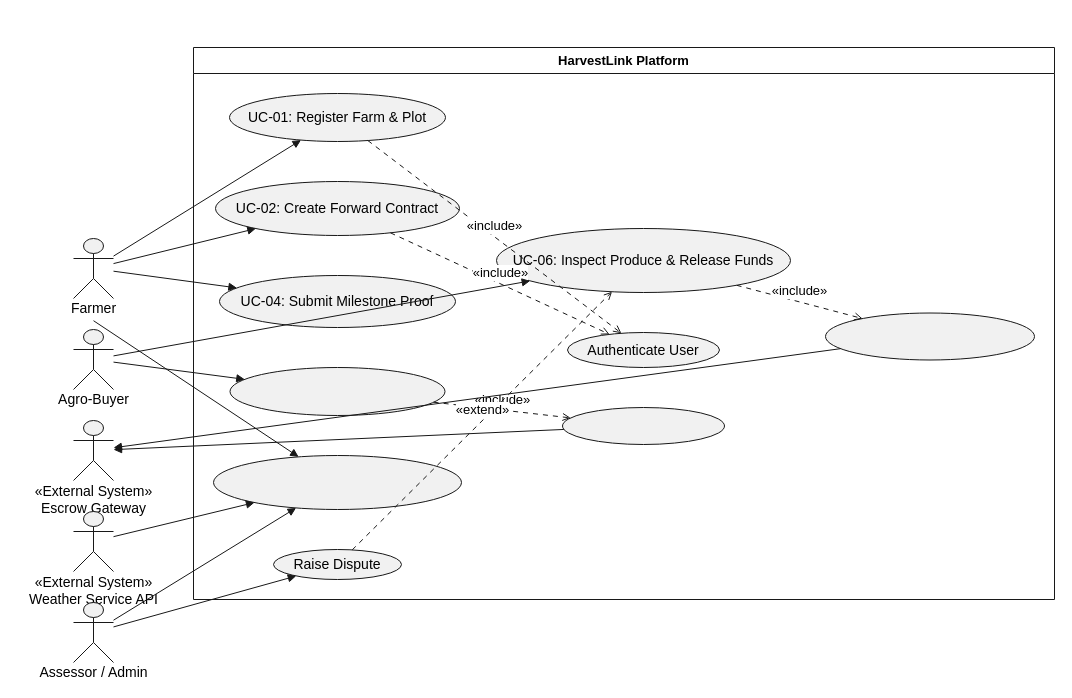
The diagram is 1072 pixels wide and 698 high, and some of its shapes have lost their labels. Here are the shapes that lost their labels. From the top down, the centre of each, then its label:
(929,336): Release Final 80% Payment
(337,391): UC-03: Reserve Crop Listing
(643,425): Deposit 20% Escrow
(337,482): UC-05: Process Parametric Claim
